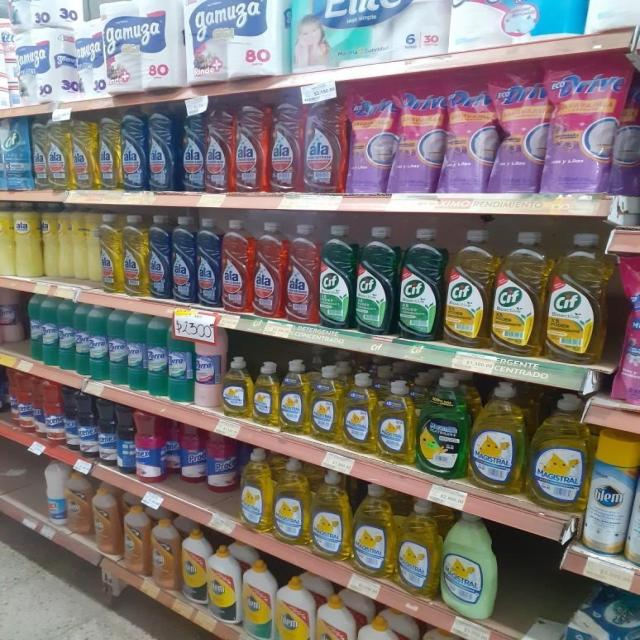ala_conc_amarillo: (123, 214, 148, 298), (100, 212, 123, 294), (46, 118, 70, 190), (72, 118, 96, 190), (97, 116, 120, 190), (32, 118, 46, 190)
ala_conc_azul: (148, 110, 178, 193), (197, 217, 221, 308), (180, 108, 205, 194), (172, 215, 196, 303), (122, 112, 146, 192), (149, 214, 170, 300)
ala_conc_rojo: (303, 98, 345, 194), (286, 222, 318, 324), (253, 220, 285, 319), (269, 101, 302, 194), (234, 104, 267, 194), (222, 218, 252, 314), (206, 106, 233, 194)
ala_crem_amarillo: (15, 200, 40, 278), (41, 202, 57, 278), (0, 200, 13, 276)
ala_crem_blanco: (631, 429, 640, 570)
cif_conc_bot_amarilla: (546, 231, 607, 363), (492, 229, 544, 356), (444, 228, 491, 348)
cif_conc_botella_verde: (398, 226, 442, 341), (355, 225, 396, 335), (319, 224, 353, 329)
drive: (548, 52, 621, 194), (396, 77, 443, 194), (348, 82, 395, 194)
magistral_con_amarillo: (528, 392, 586, 512), (470, 382, 526, 494), (397, 499, 439, 597), (353, 483, 395, 578), (311, 470, 350, 561), (377, 379, 415, 464), (274, 458, 309, 546), (240, 448, 272, 534), (343, 372, 376, 453), (310, 364, 342, 443), (280, 360, 309, 434), (221, 356, 251, 419), (252, 361, 279, 427)
magistral_con_azul: (556, 593, 622, 640)
magistral_con_crema: (442, 510, 498, 619)
